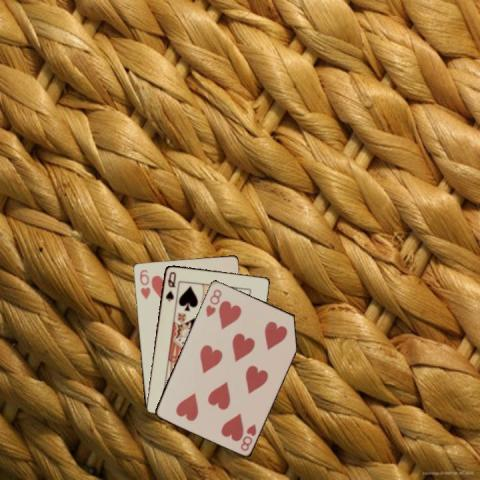6h: (137, 266, 151, 300)
8h: (203, 286, 223, 319), (237, 421, 258, 452)
Qs: (163, 269, 177, 302)
